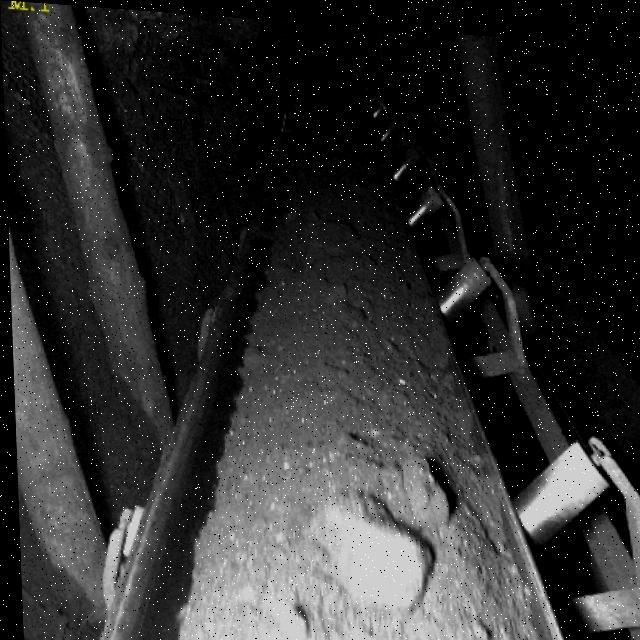large_sized_coal: (317, 493, 428, 605), (383, 449, 451, 525)
